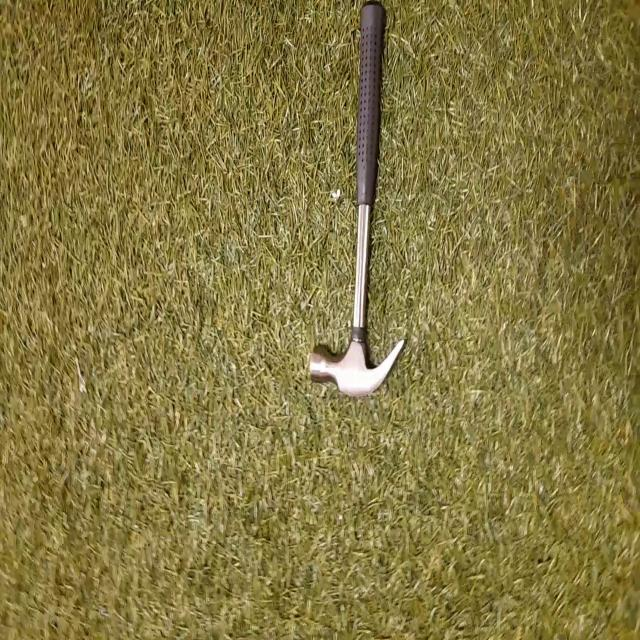hammer: (309, 0, 406, 397)
